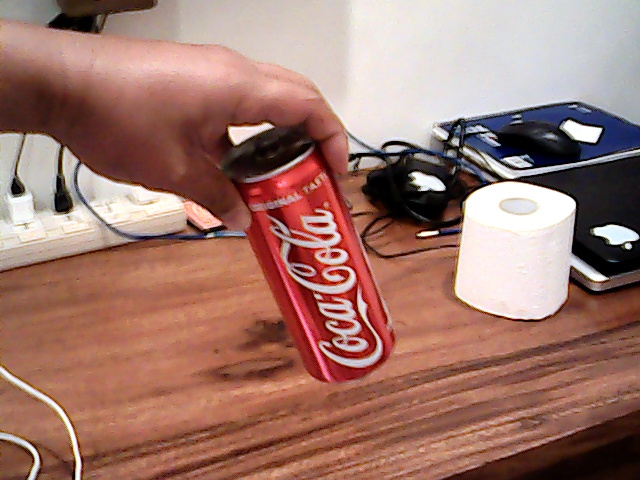Cola: (257, 154, 386, 369)
